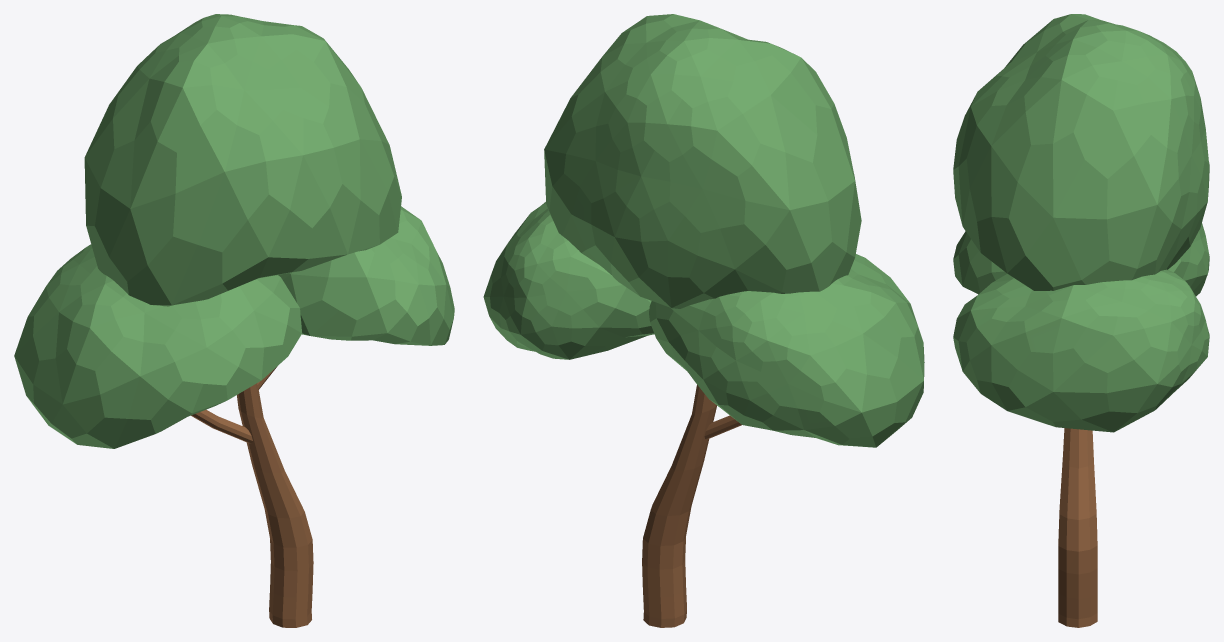
The picture shows the model from 3 angles, left to right: view 1: azimuth 30°, elevation 25°; view 2: azimuth 150°, elevation 25°; view 3: azimuth 270°, elevation 25°; orthographic projection. The views are drawn at different scales.
Parts seen in each view (by area): view 1: Tree2; view 2: Tree2; view 3: Tree2.
Part boxes in pixels (x1,y1,x2,y2): Tree2: (14,14,454,627); Tree2: (483,14,924,627); Tree2: (953,14,1209,627).
Bounding box in the file's own units: 3.73 × 5.57 × 2.26.
